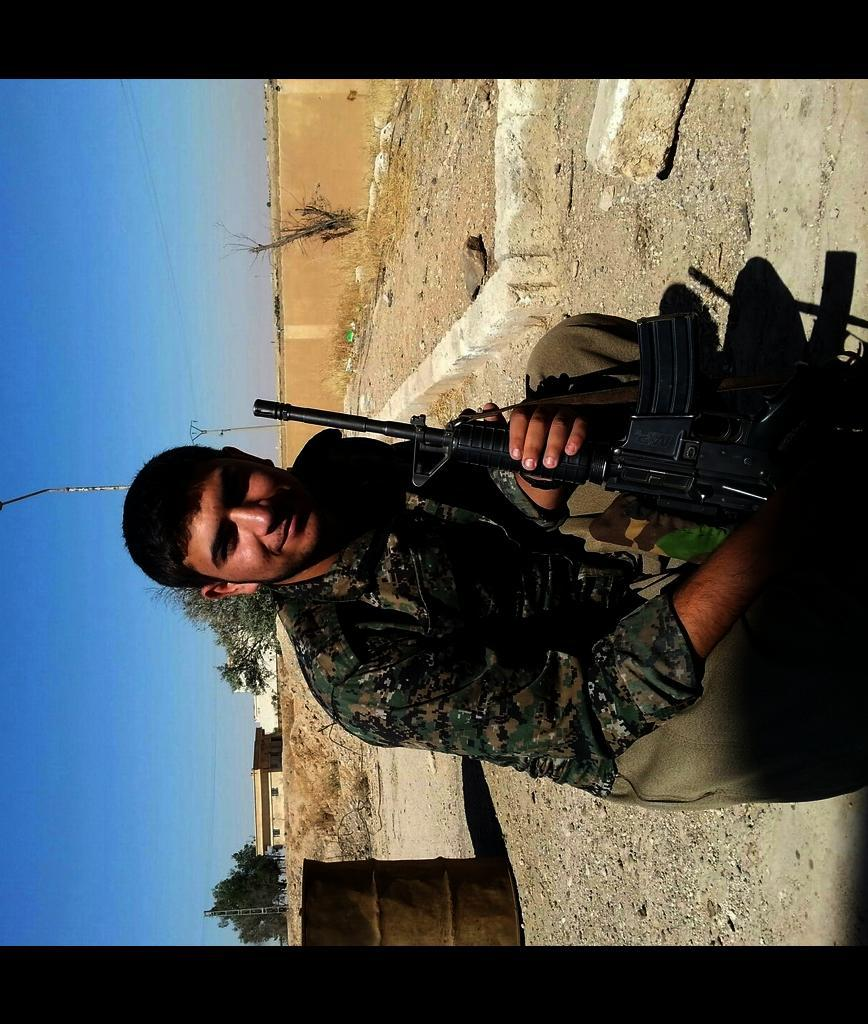gun: (245, 316, 848, 518)
